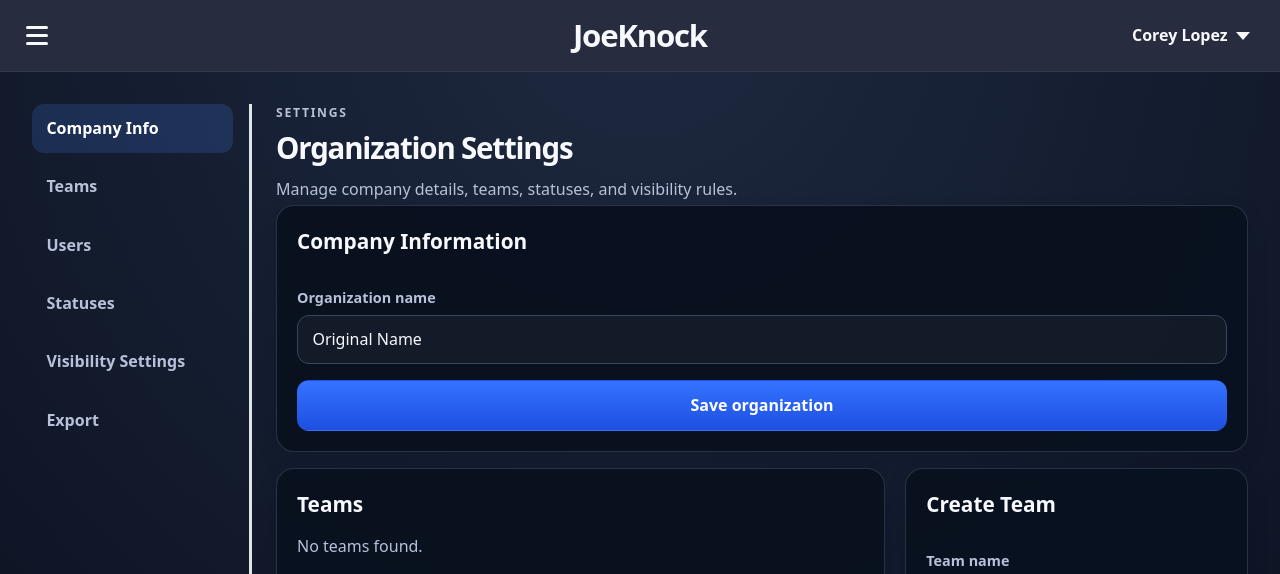
it: settings page › loads organization info and allows admin update
The width and height of the screenshot is (1280, 574).
expect the heading "Organization Settings" is shown: met, box [276,128,572,168]
Replace the text in the field labelled "Organization name" with "Renamed Org". click: (762, 339)
box: [297,315,1227,364]
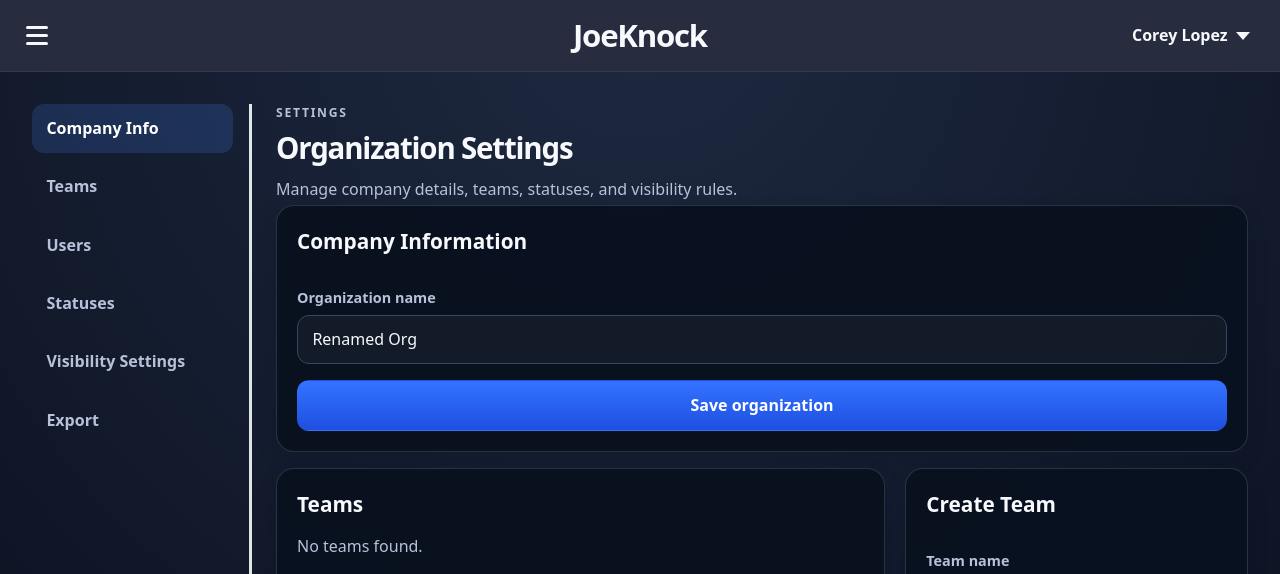
Click the button "Save organization". click: (762, 405)
box: [297,380,1227,431]
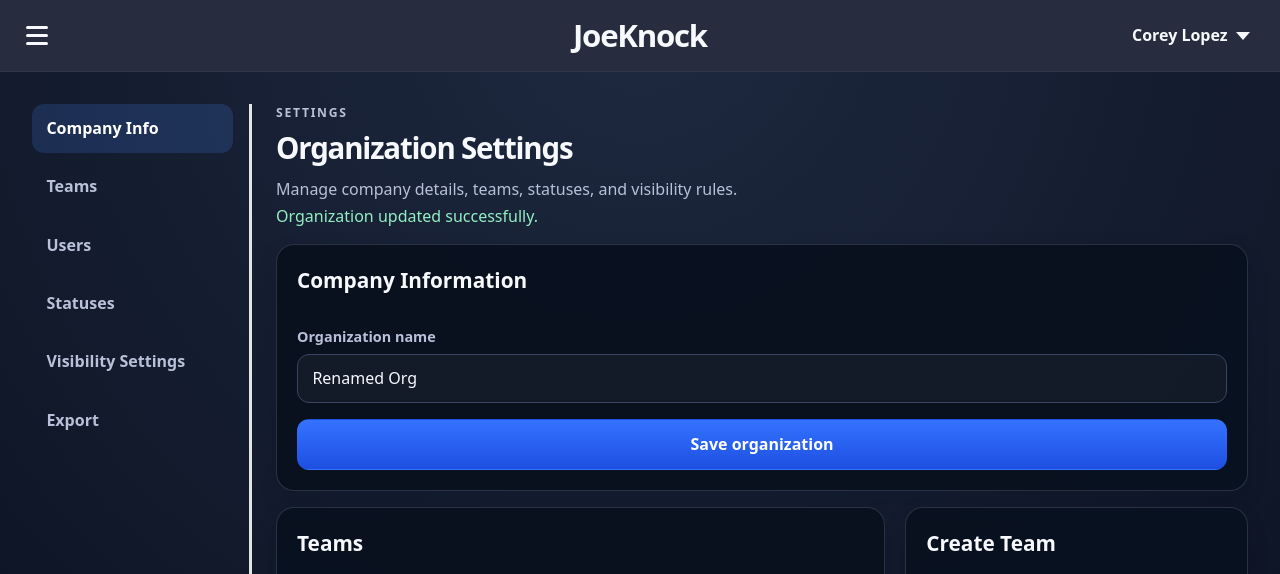
expect the message reads "Organization updated successfully.": met, box [276,205,538,227]
